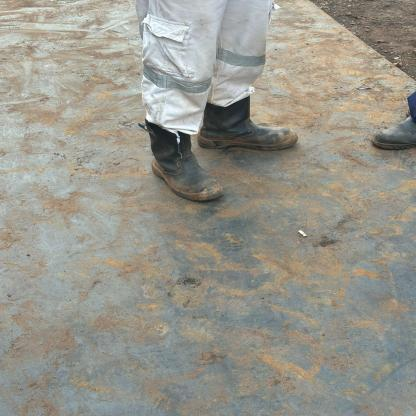bota: (135, 121, 231, 207), (195, 97, 302, 156), (372, 114, 416, 152)
